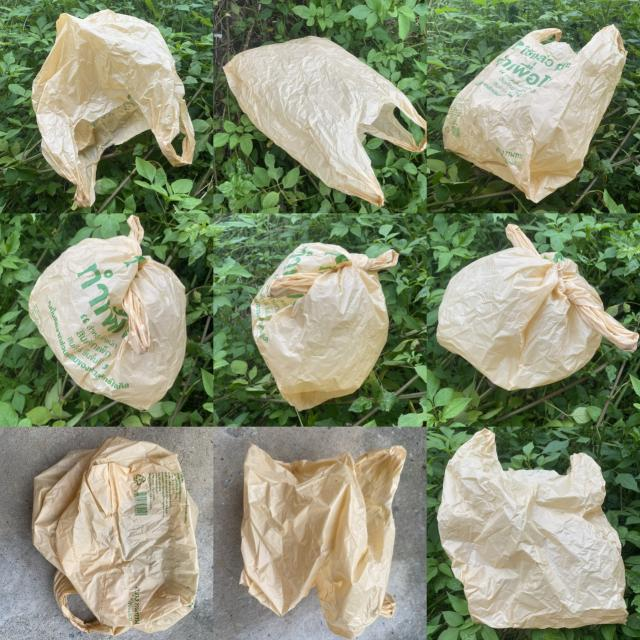Single-layer Plastic: (438, 429, 628, 629), (224, 36, 426, 206), (436, 224, 639, 390), (31, 436, 199, 635), (442, 25, 626, 202), (240, 445, 406, 639), (31, 10, 195, 206), (29, 216, 186, 409), (251, 242, 398, 410)
